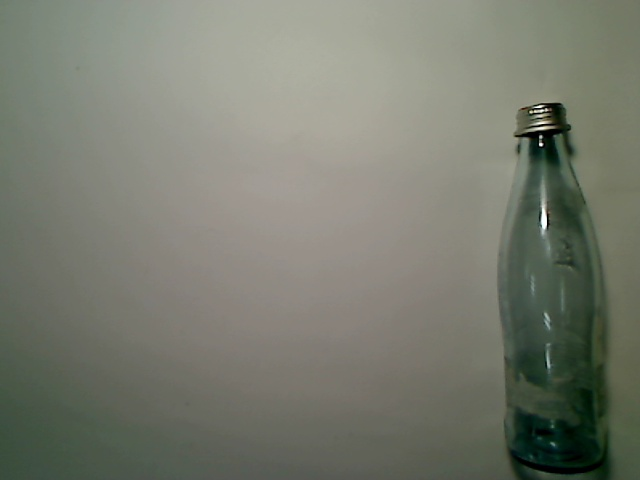bottle: (495, 101, 610, 475)
